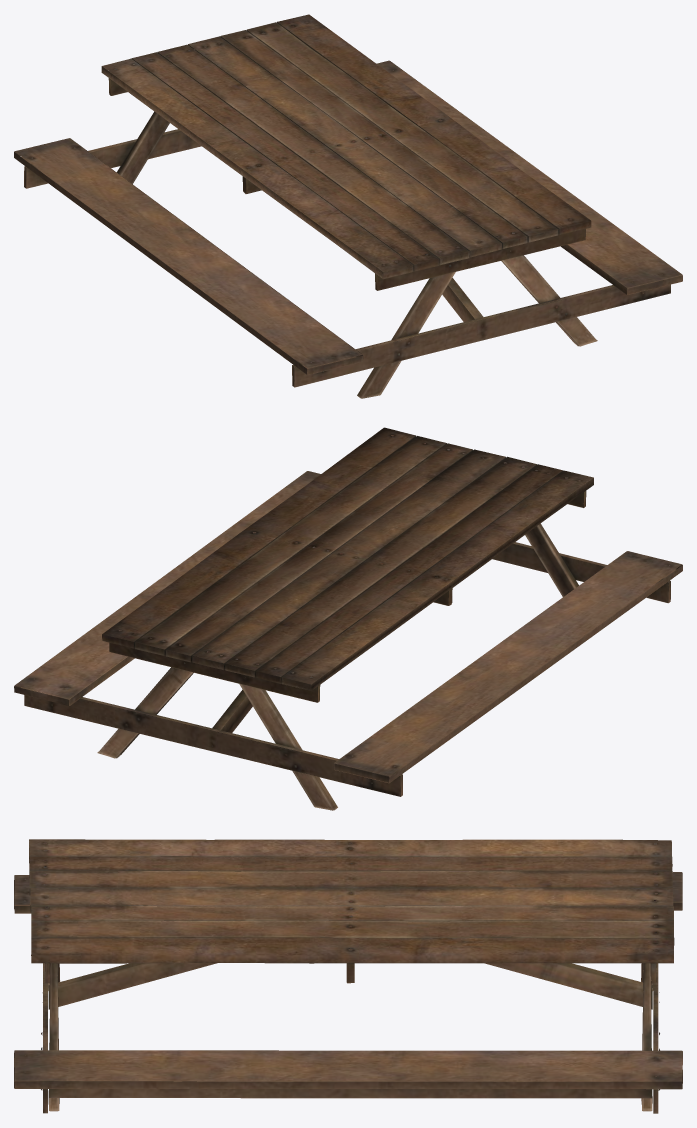
File: wooden_picnic_table_1k.gltf.lod.glb
The picture shows the model from 3 angles, top to bottom: view 1: azimuth 30°, elevation 25°; view 2: azimuth 150°, elevation 25°; view 3: azimuth 270°, elevation 25°; orthographic projection. The views are drawn at different scales.
Visible parts, largest first — view 1: wooden_picnic_table; view 2: wooden_picnic_table; view 3: wooden_picnic_table.
Part boxes in pixels (x1,y1,x2,y2): wooden_picnic_table: (14, 14, 682, 398); wooden_picnic_table: (14, 427, 682, 810); wooden_picnic_table: (14, 839, 682, 1113).
Size of the model in its own units: 2.24 by 0.7457 by 3.02.
Materials: 2 (2 with a texture image).
